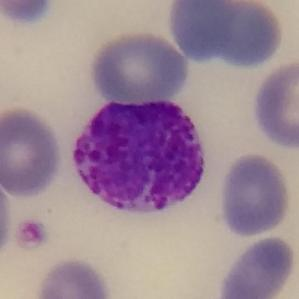Basophil: (64, 87, 217, 220)
Platelets: (12, 217, 50, 251)
RBC: (87, 28, 192, 104), (217, 151, 294, 239), (0, 104, 64, 199), (164, 0, 242, 72), (213, 233, 299, 298), (209, 0, 283, 67), (249, 58, 299, 152), (33, 255, 114, 299), (0, 0, 57, 28), (0, 171, 14, 260)
